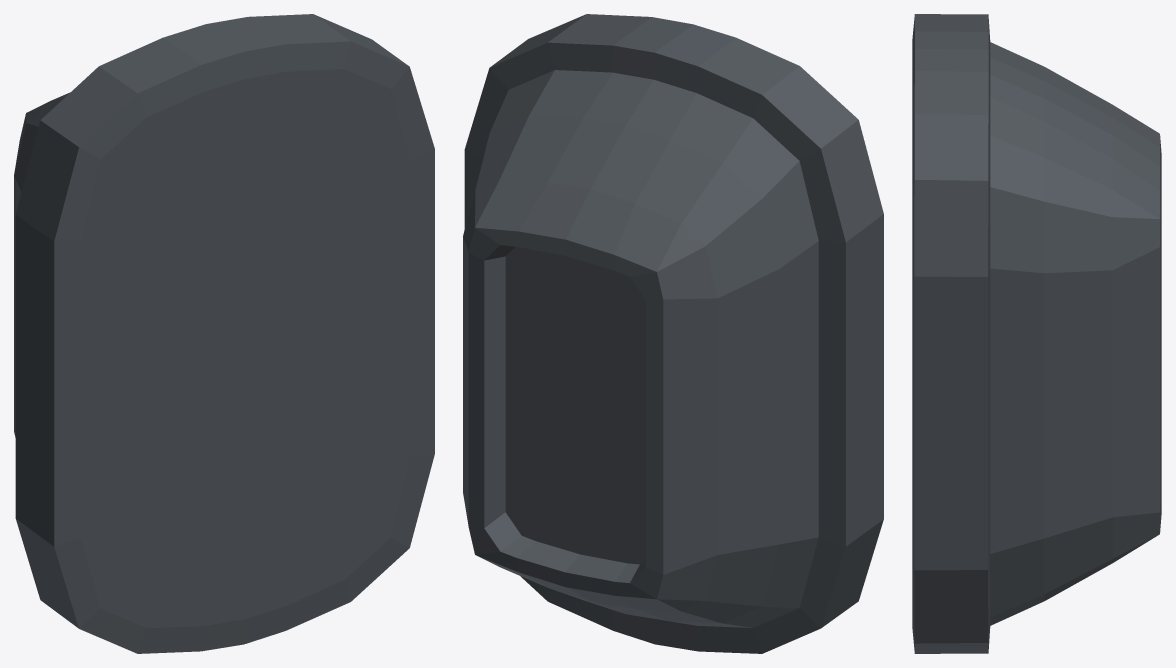
The model's file is Fighter_04_Thrusters_Blue.fbx.
The picture shows the model from 3 angles, left to right: view 1: azimuth 30°, elevation 25°; view 2: azimuth 150°, elevation 25°; view 3: azimuth 270°, elevation 25°; orthographic projection. The views are drawn at different scales.
Visible parts, largest first — view 1: Fighter_04_Thrusters_Blue; view 2: Fighter_04_Thrusters_Blue; view 3: Fighter_04_Thrusters_Blue.
Boxes of the visible parts, x1,y1,x2,y2 form: Fighter_04_Thrusters_Blue: [14, 14, 434, 653]; Fighter_04_Thrusters_Blue: [463, 14, 883, 653]; Fighter_04_Thrusters_Blue: [912, 14, 1161, 653].
Bounding box in the file's own units: 110 × 164 × 64.94.
2 materials, 2 textured.
